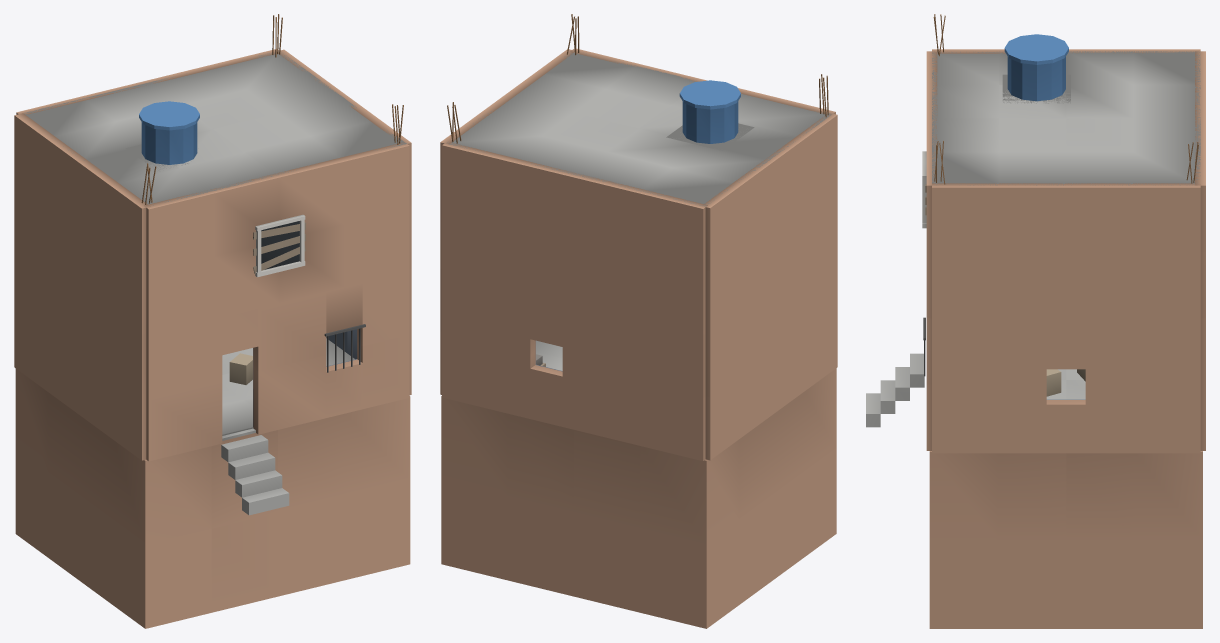
File: barraco_8.glb
3 renders of one model, left to right at view 1: azimuth 30°, elevation 25°; view 2: azimuth 150°, elevation 25°; view 3: azimuth 270°, elevation 25°, orthographic. The views are drawn at different scales.
Visible parts, largest first — view 1: ext, longe, detalhe, dentro; view 2: ext, longe, detalhe, dentro; view 3: longe, ext, detalhe, dentro.
Part boxes in pixels (left/top/right/bottom): ext: left=14, top=49, right=411, bottom=461; longe: left=15, top=51, right=410, bottom=628; detalhe: left=125, top=14, right=403, bottom=515; dentro: left=222, top=329, right=357, bottom=440; ext: left=440, top=48, right=837, bottom=460; longe: left=441, top=52, right=836, bottom=628; detalhe: left=447, top=14, right=828, bottom=150; dentro: left=535, top=340, right=562, bottom=371; longe: left=929, top=51, right=1202, bottom=628; ext: left=926, top=49, right=1205, bottom=453; detalhe: left=866, top=14, right=1198, bottom=427; dentro: left=1046, top=369, right=1085, bottom=399.
Size of what is drawn, in the model's own units: 6.72 by 10.93 by 6.96.
